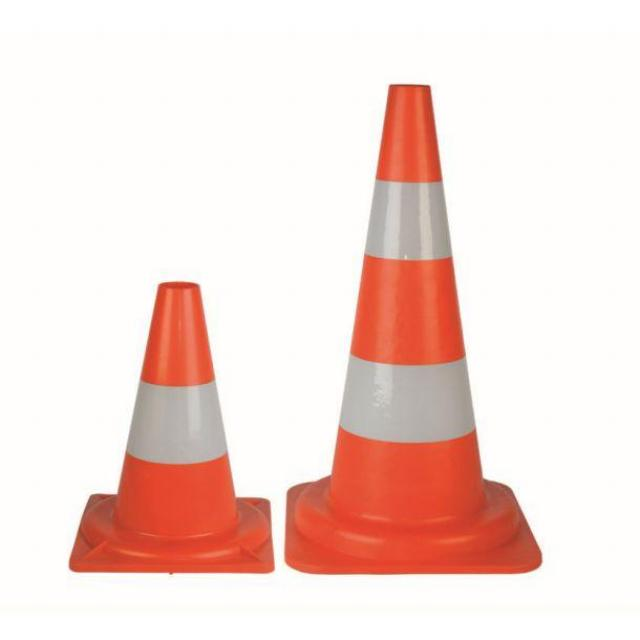cone: (287, 106, 528, 569)
